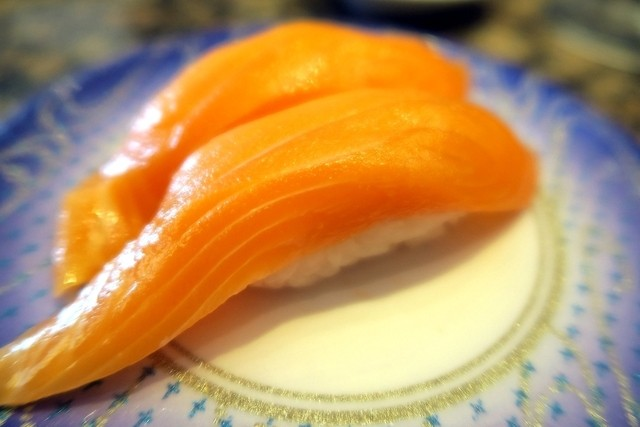salmon: (23, 20, 541, 400)
